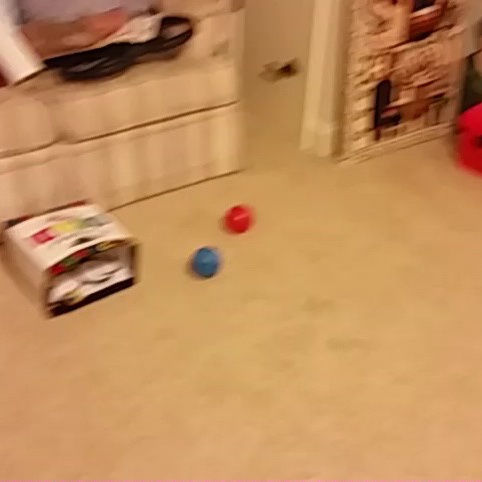blueball: (186, 241, 225, 280)
redball: (220, 200, 258, 236)
